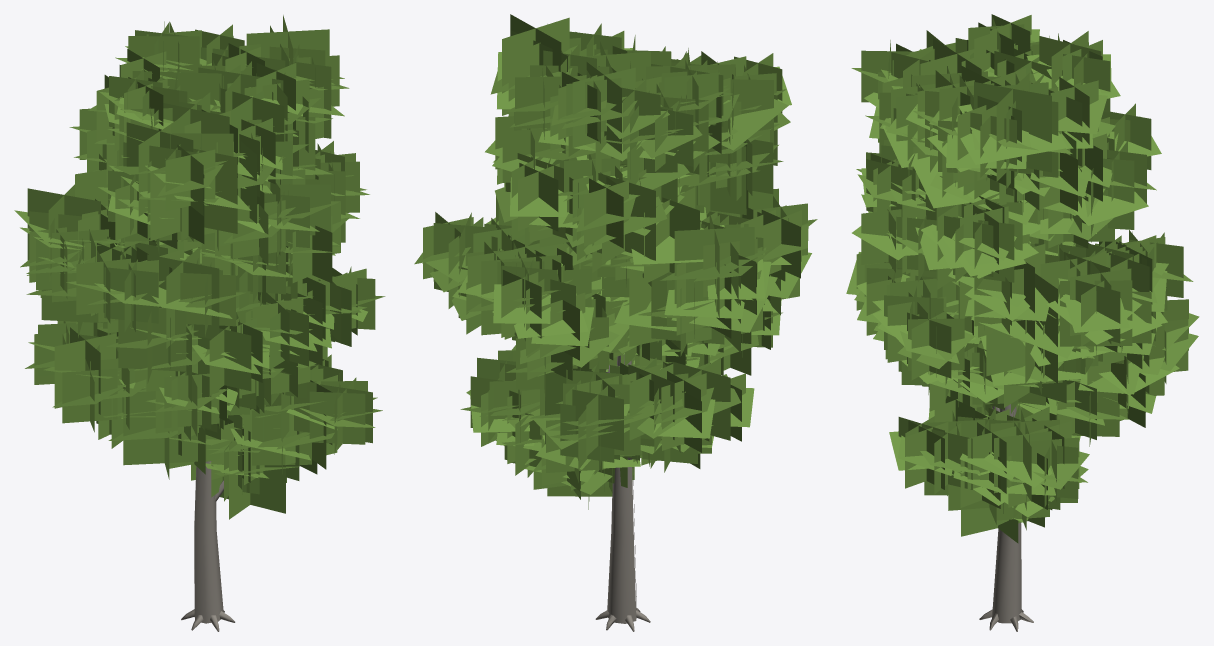
File: tilleul_2_f2_jeu.glb
3 renders of one model, left to right at view 1: azimuth 30°, elevation 25°; view 2: azimuth 150°, elevation 25°; view 3: azimuth 270°, elevation 25°, orthographic.
Parts seen in each view (by area): view 1: Tilleul_T2_f2_Leger; view 2: Tilleul_T2_f2_Leger; view 3: Tilleul_T2_f2_Leger.
Boxes of the visible parts, x1=… form: Tilleul_T2_f2_Leger: x1=14, y1=15, x2=385, y2=631; Tilleul_T2_f2_Leger: x1=414, y1=14, x2=817, y2=631; Tilleul_T2_f2_Leger: x1=846, y1=14, x2=1199, y2=631.
Size of the model in its own units: 6.18 by 10.46 by 5.84.
